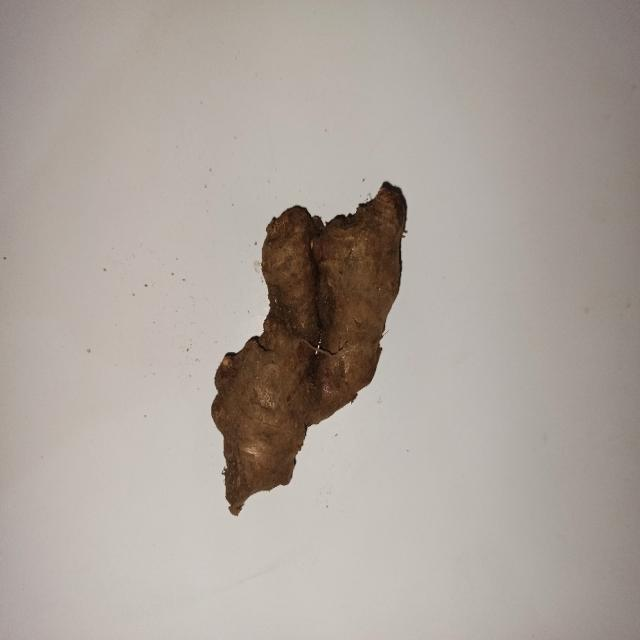ginger: (210, 190, 401, 495)
